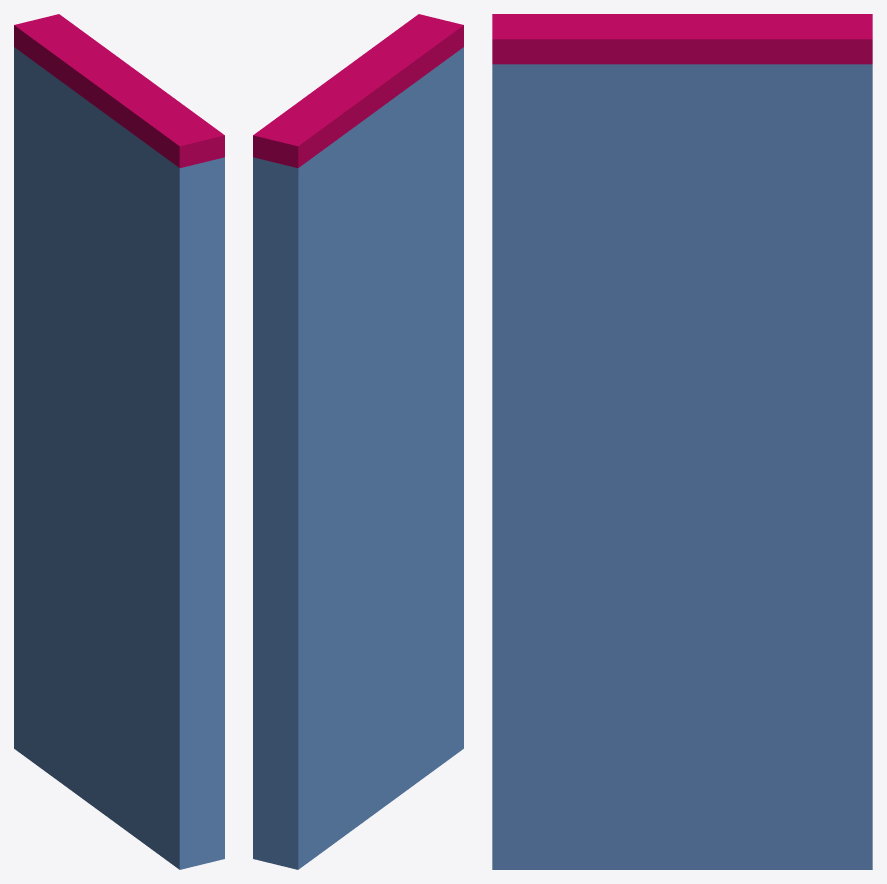
The model's file is door finished.fbx.
3 views of the same model, side by side, from view 1: azimuth 30°, elevation 25°; view 2: azimuth 150°, elevation 25°; view 3: azimuth 270°, elevation 25° (orthographic). The views are drawn at different scales.
Parts seen in each view (by area): view 1: Cube; view 2: Cube; view 3: Cube.
Boxes of the visible parts, <box> form: Cube: <box>14,14,224,869</box>; Cube: <box>253,14,463,869</box>; Cube: <box>492,14,872,869</box>.
Size of the model in its own units: 31.46 by 482 by 200.
